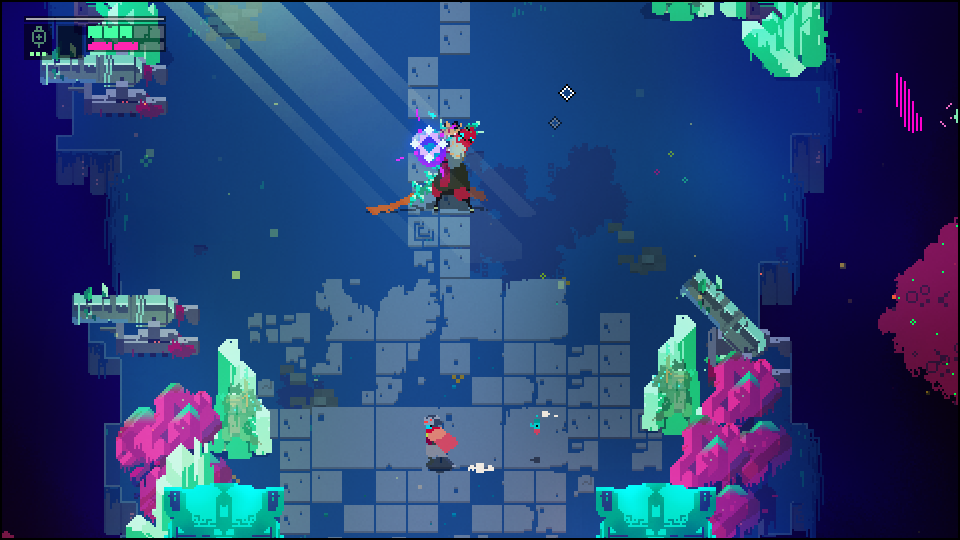hanged_man: (406, 117, 485, 214)
player: (420, 412, 457, 463)
